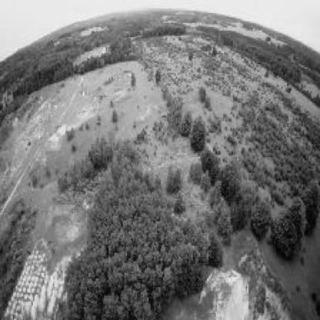other: (202, 260, 300, 316)
